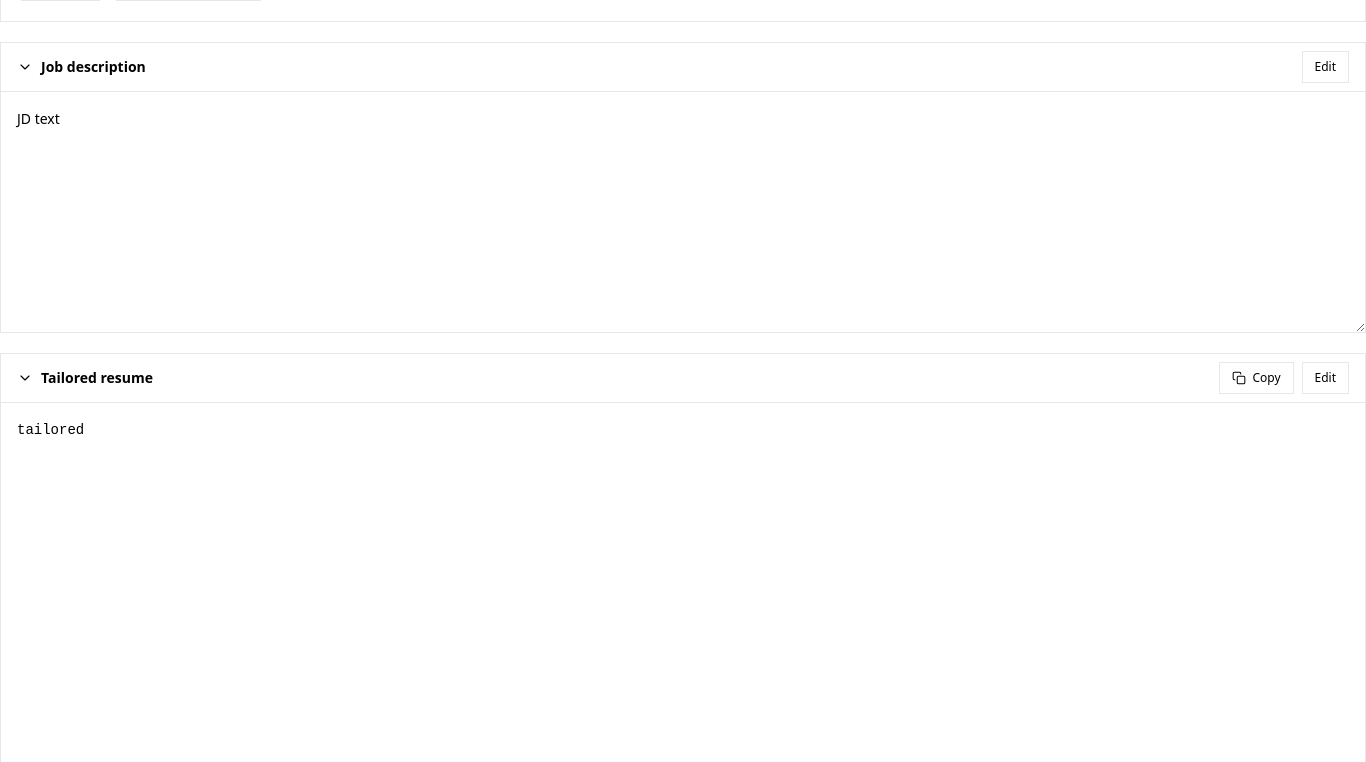
Test: ApplicationDetail › copies text to the clipboard
(page scrolled)
Click the button "Copy".
click(1256, 378)  # box top-left (1219, 362), bottom-right (1294, 394)
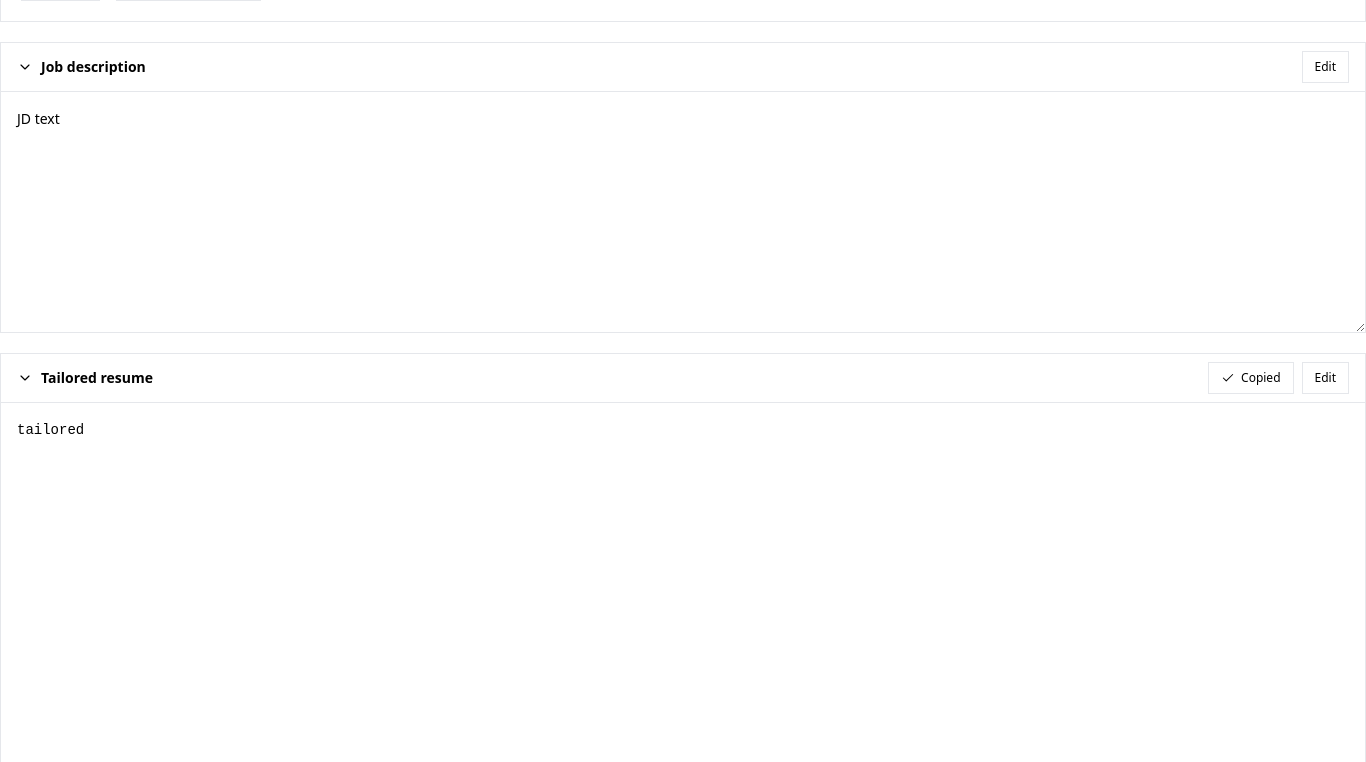
Now the text "Copied" is shown, box top-left (1241, 370), bottom-right (1280, 386)
